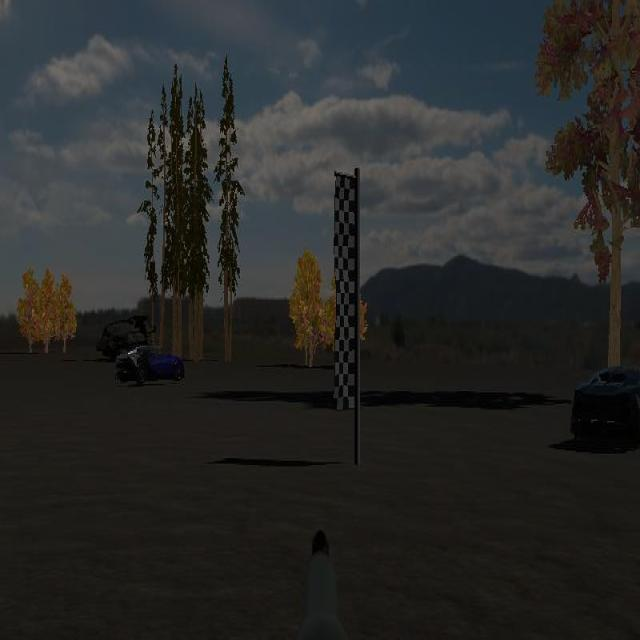car: (570, 364, 640, 447), (115, 345, 184, 387)
